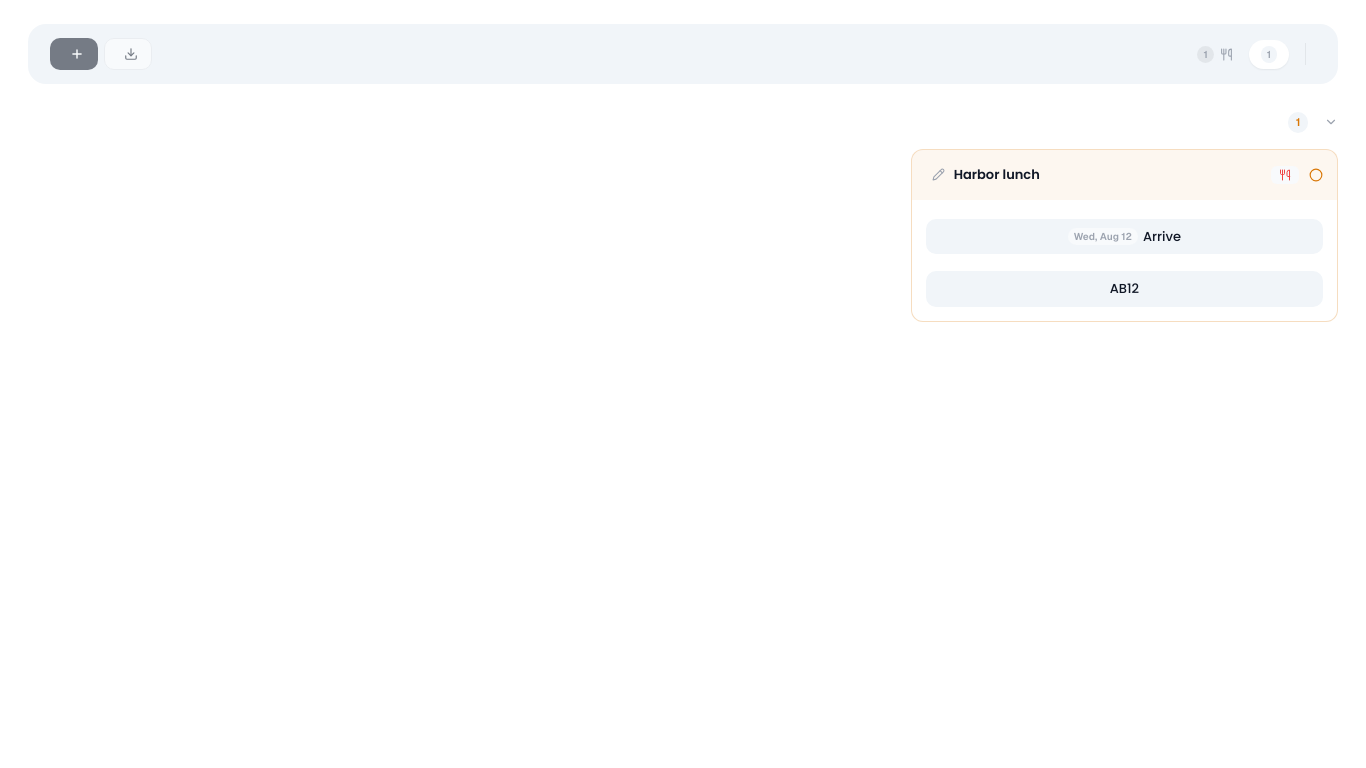
Test: BookingsPanelFamily booking details › hides edit and delete for a read-only member
Click the button "Harbor lunch": (997,175) top-left (954, 165), bottom-right (1040, 184)
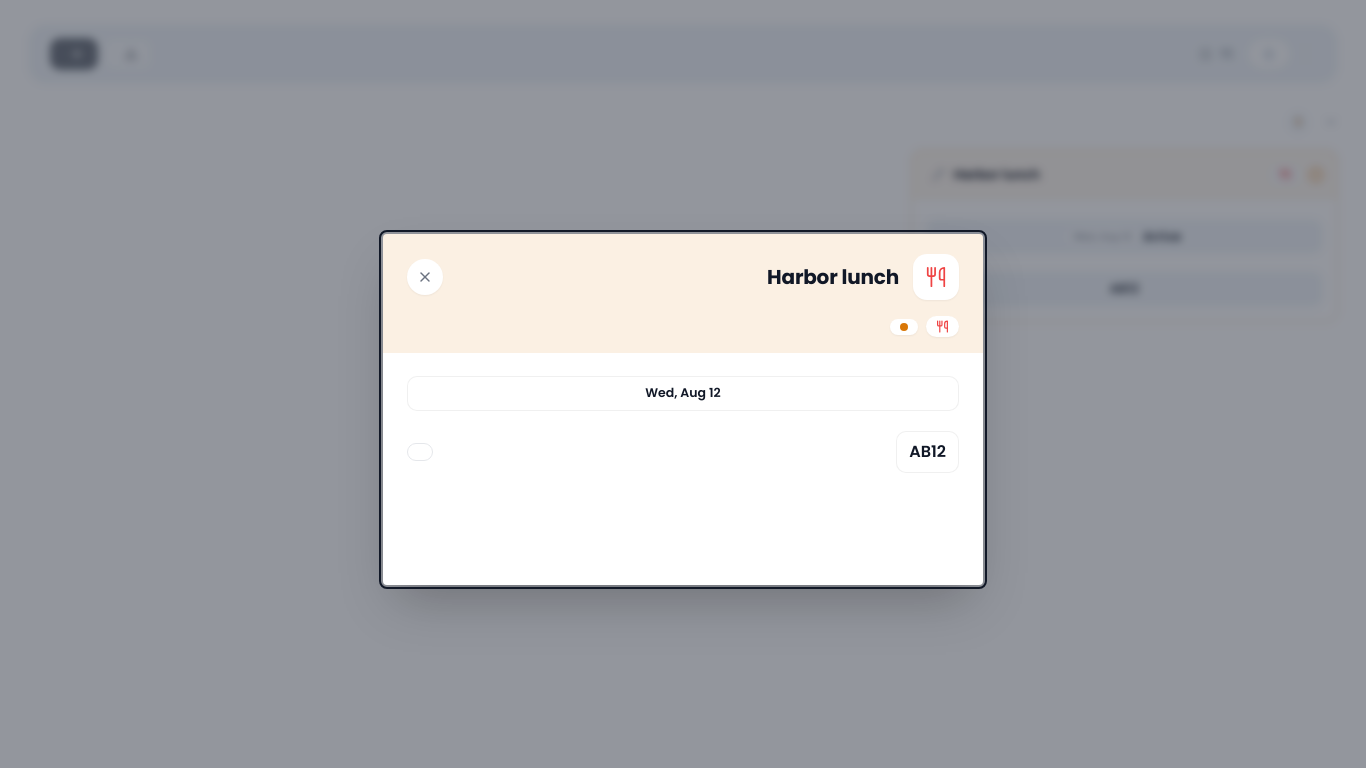
Now the text "AB12" is shown, box top-left (896, 430), bottom-right (959, 472)
